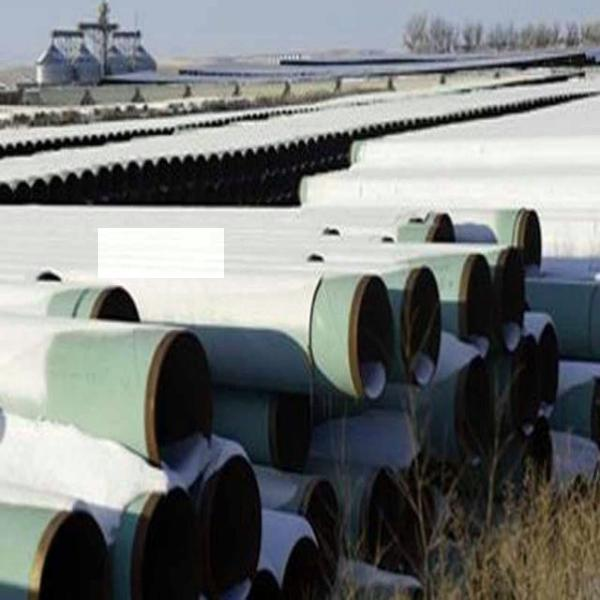no leak: (98, 228, 224, 278)
